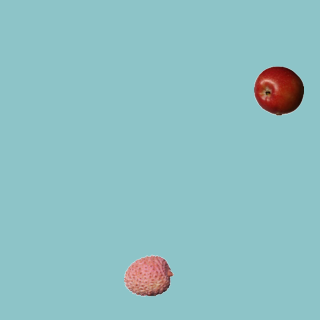Apple Braeburn: (253, 65, 303, 115)
Lychee: (123, 250, 173, 300)
